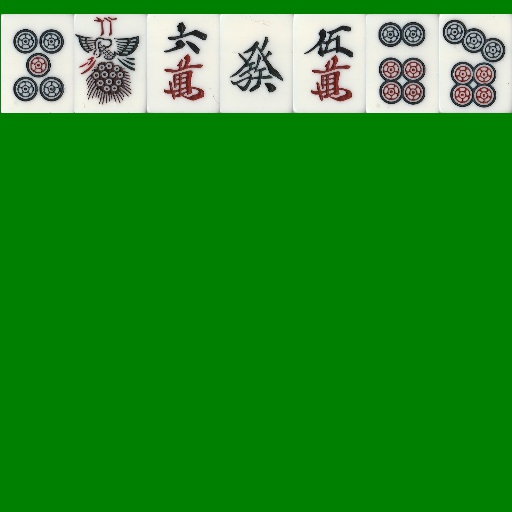1s: (74, 14, 147, 113)
5m: (293, 14, 366, 113)
5p: (1, 14, 74, 113)
6m: (147, 14, 220, 113)
6p: (366, 14, 439, 113)
7p: (439, 14, 512, 113)
hatsu: (220, 14, 293, 113)
